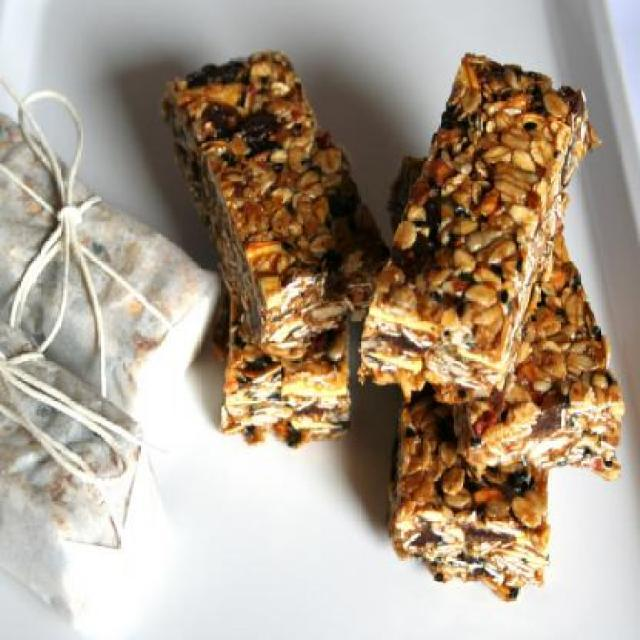Cereal bar packaged: (356, 54, 595, 392), (156, 48, 372, 357)
